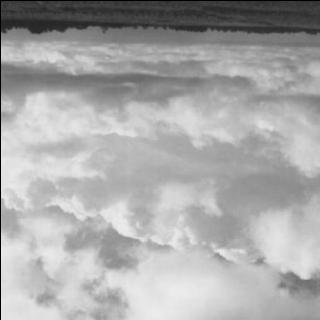Stratus: (0, 38, 320, 320)
